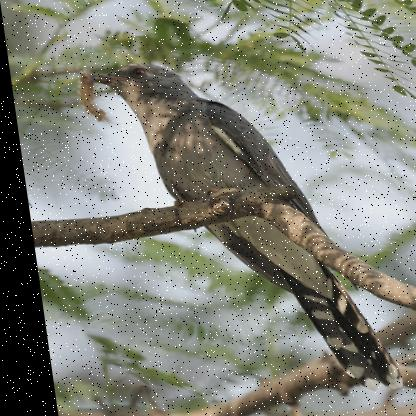Burung: (73, 62, 391, 390)
